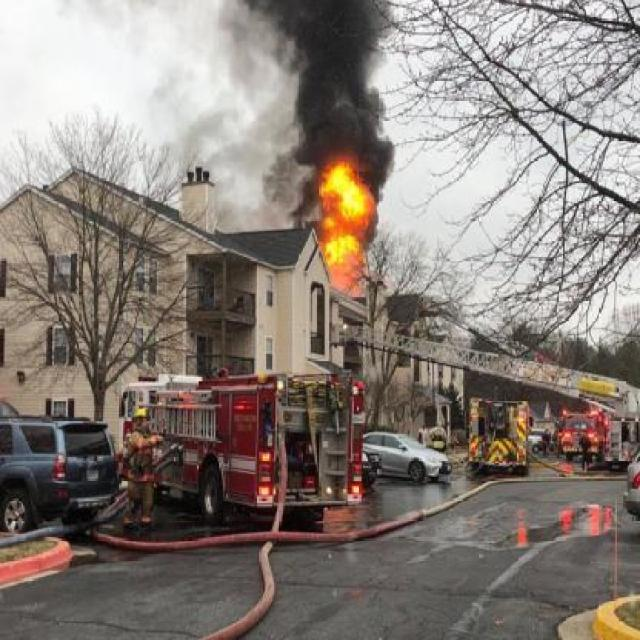Fire: (286, 152, 385, 283)
Smoke: (232, 11, 376, 135)
